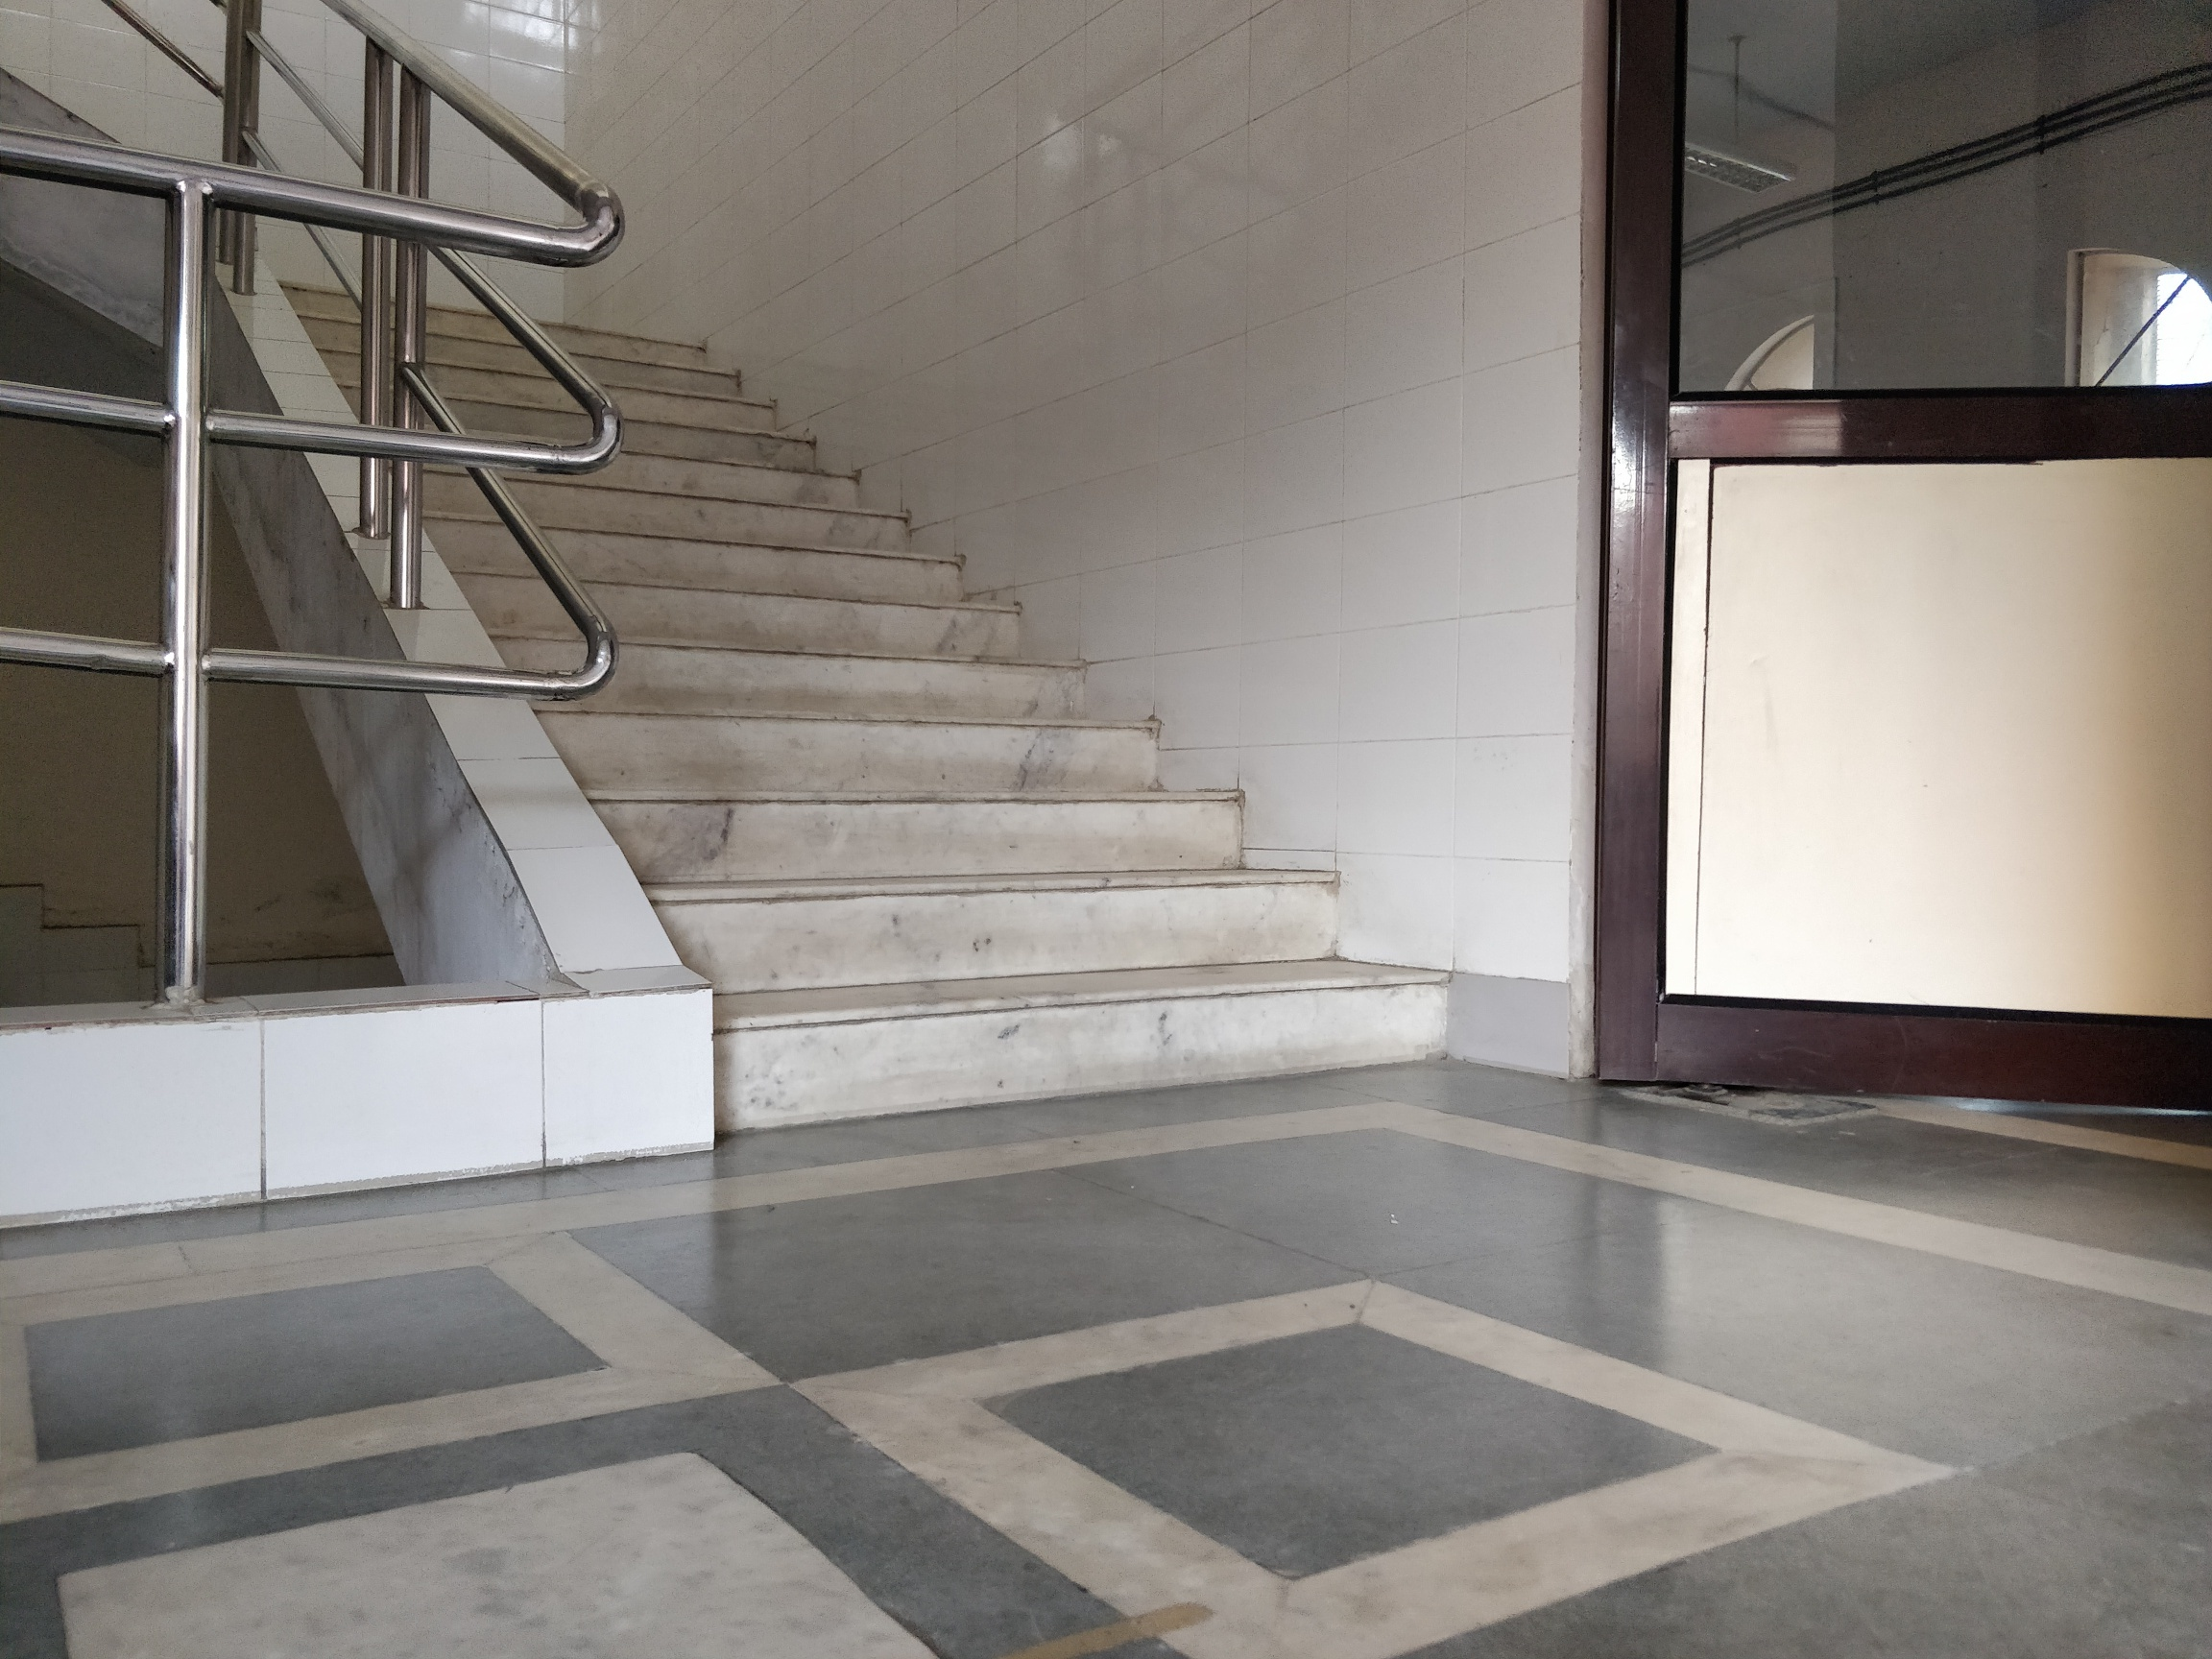stairs_up: (270, 265, 1468, 1100)
